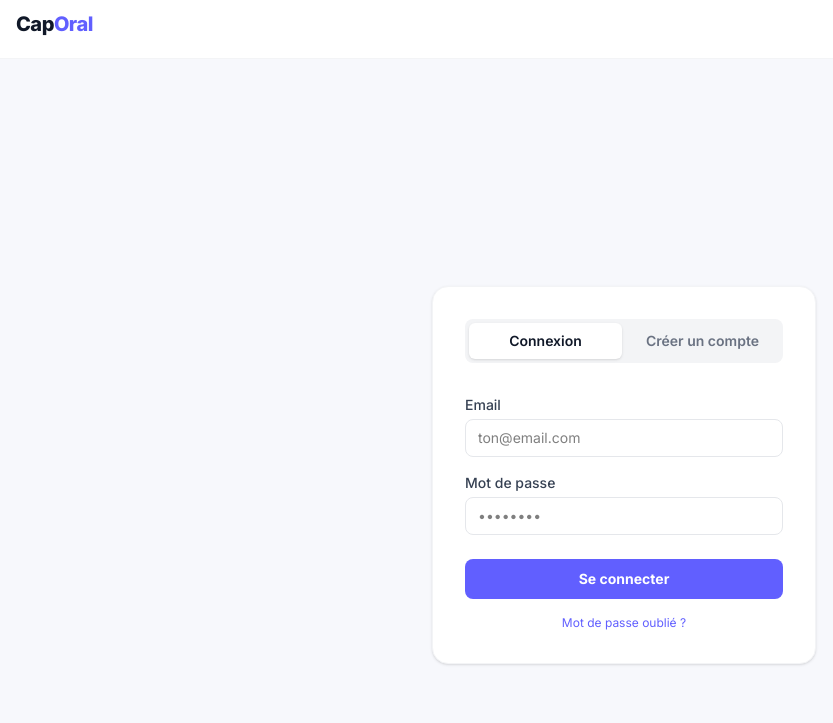
it: ConnexionPage › shows error when passwords do not match on inscription
The image size is (833, 723).
Click the button "Créer un compte" at (702, 340), box [626, 322, 779, 358]
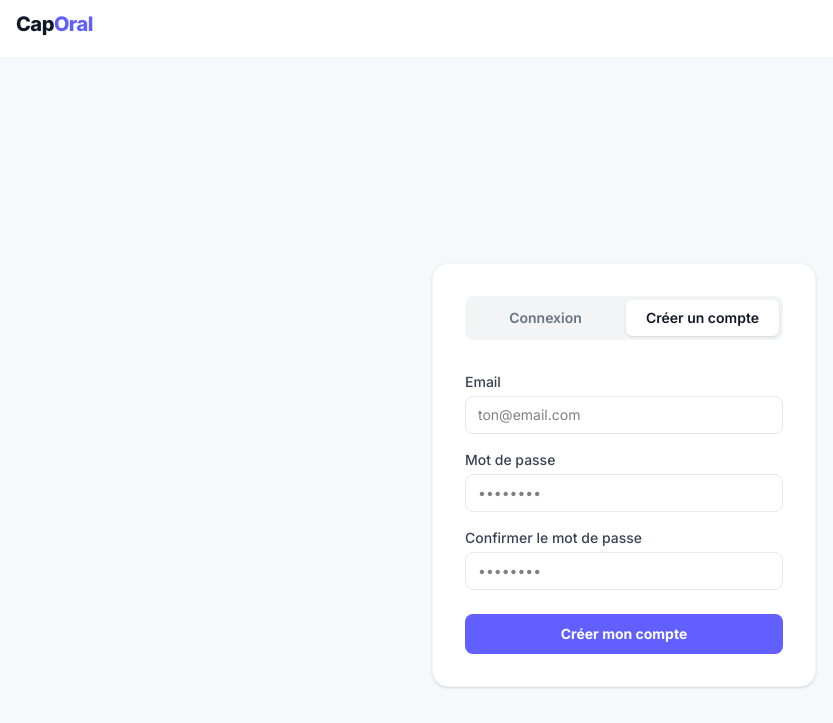
Type "test@test.com" into the field with placeholder "ton@email.com" at (624, 414), box [465, 396, 783, 434]
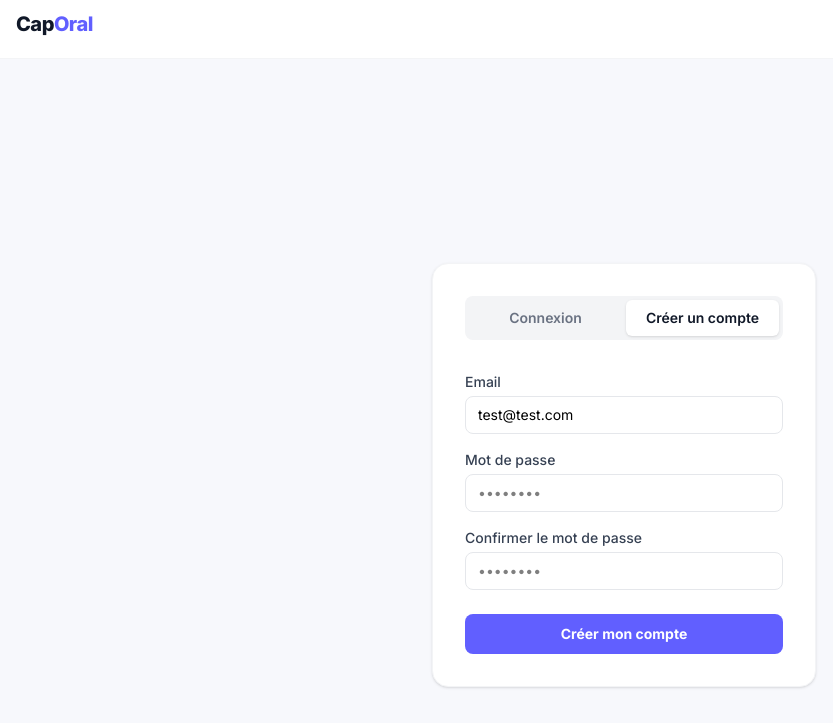
Type "password1" into the 1st password field with placeholder "••••••••" at (624, 492), box [465, 474, 783, 512]
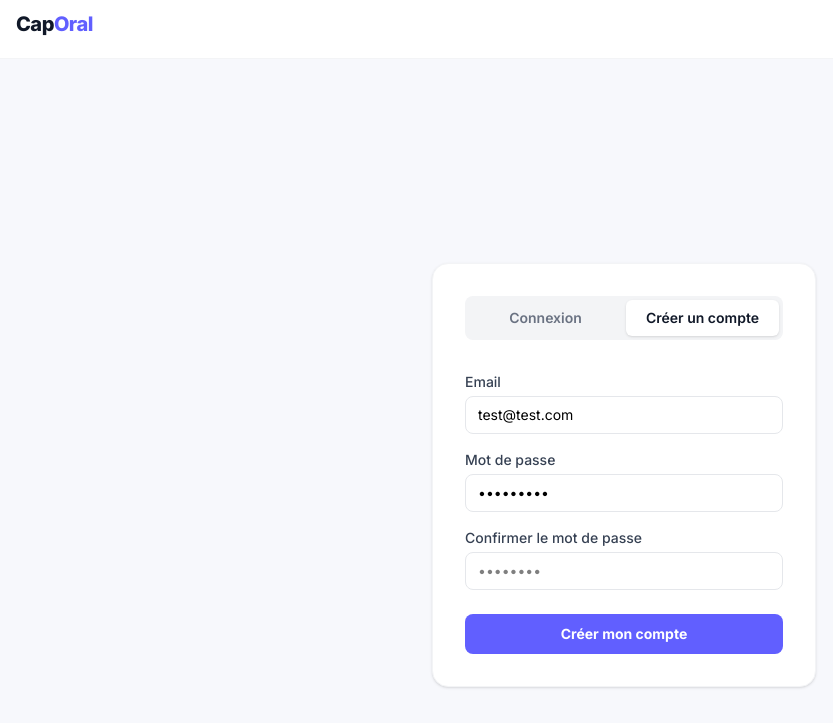
Type "password2" into the password field with placeholder "••••••••" at (624, 570), box [465, 552, 783, 590]
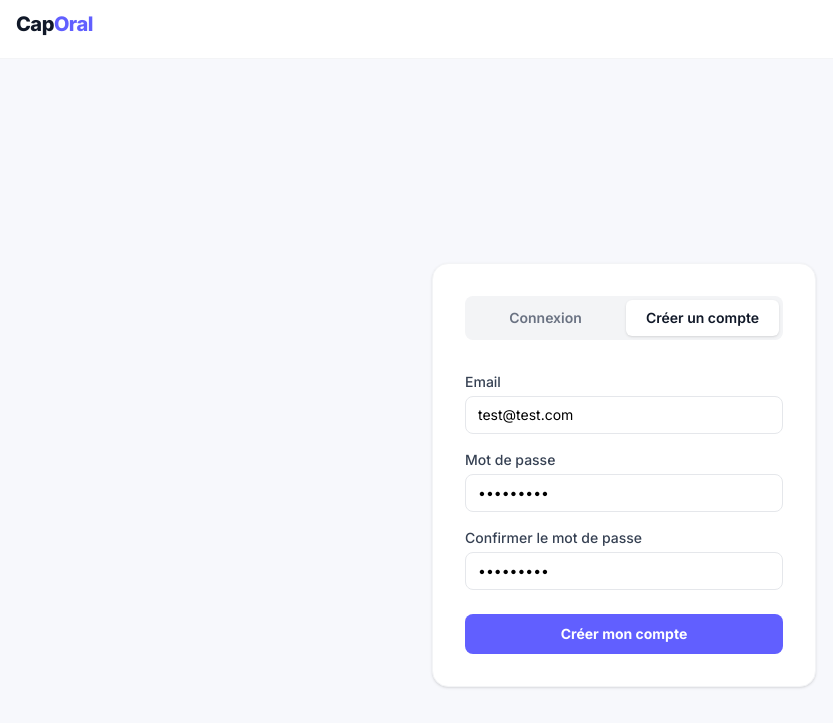
Submit the form, box [465, 372, 783, 654]
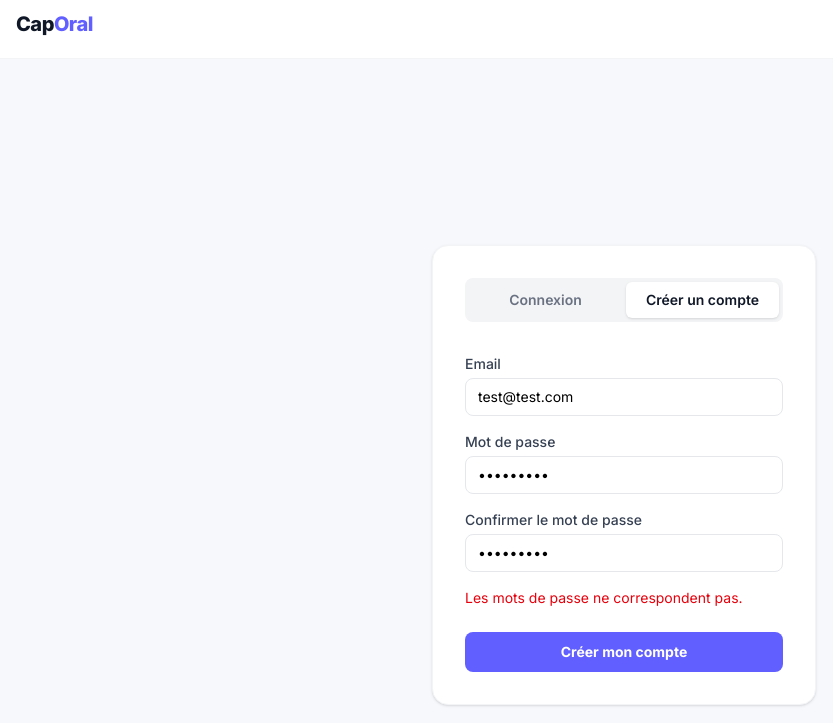
Expected: the text "Les mots de passe ne correspondent pas." is shown, [465, 588, 783, 608]
